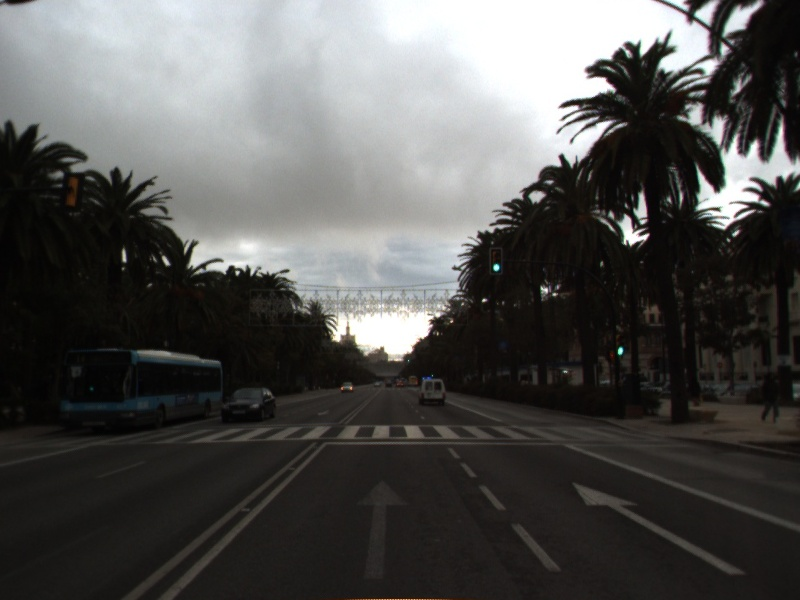STRAIGHT: (569, 479, 750, 578), (352, 476, 414, 582)
